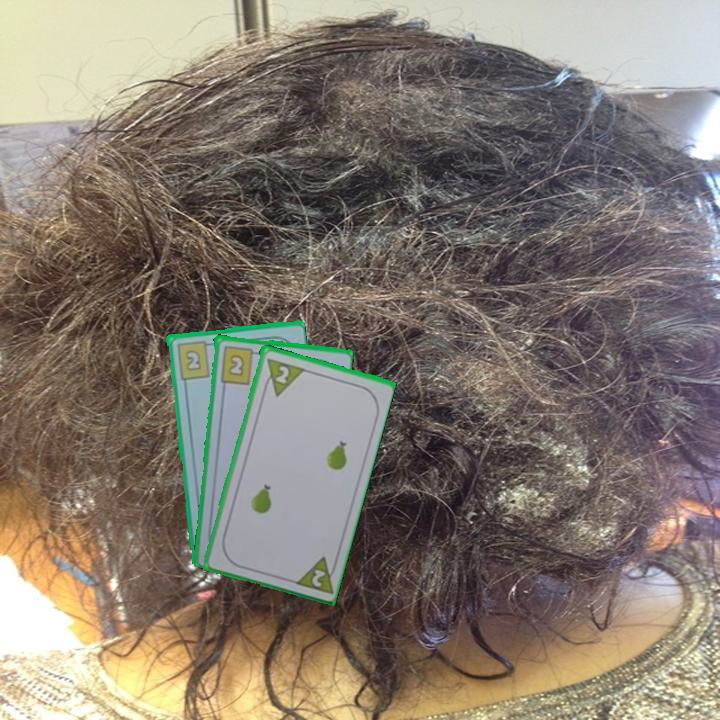2b: (216, 342, 262, 386), (173, 337, 215, 382)
2p: (289, 552, 341, 596), (259, 354, 306, 399)
